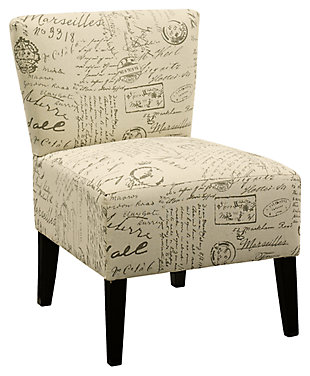chairs: (5, 9, 301, 367)
